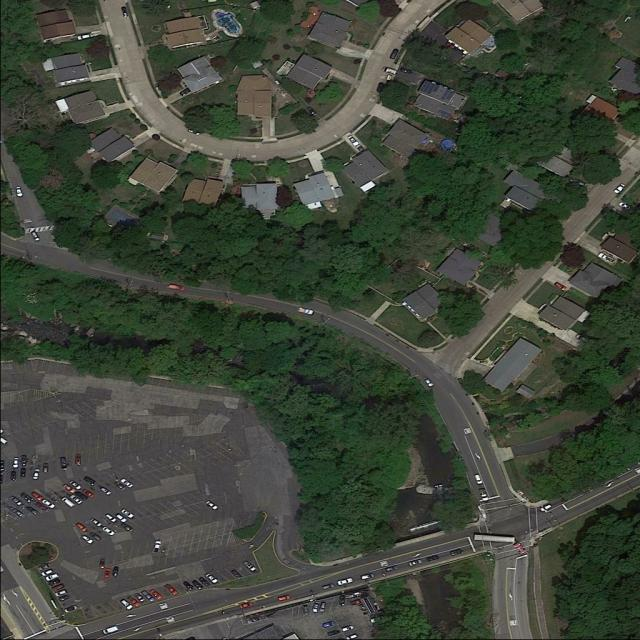large-vehicle: (472, 528, 529, 554)
small-vehicle: (598, 252, 615, 264), (612, 182, 626, 196), (61, 496, 76, 509), (352, 141, 366, 154), (141, 590, 156, 602), (41, 498, 56, 510), (83, 474, 98, 486), (74, 489, 89, 501), (102, 626, 119, 636), (120, 522, 134, 534), (205, 572, 219, 584), (150, 589, 164, 601), (382, 66, 398, 76), (165, 584, 178, 596), (35, 501, 48, 513), (70, 494, 83, 506), (128, 596, 141, 608), (121, 599, 134, 611), (575, 333, 589, 344), (102, 526, 116, 537), (62, 483, 76, 494), (120, 478, 134, 489), (337, 578, 354, 587), (192, 579, 204, 591), (369, 615, 385, 624), (306, 106, 318, 118), (168, 284, 186, 292), (298, 307, 314, 316), (89, 531, 102, 542), (244, 561, 257, 572), (231, 569, 244, 580), (199, 577, 212, 588), (121, 508, 134, 519), (206, 500, 219, 511), (21, 492, 34, 503), (69, 479, 82, 490), (478, 489, 489, 502), (46, 572, 60, 582), (51, 582, 65, 592), (64, 604, 78, 614), (76, 522, 88, 533), (82, 534, 94, 545), (116, 513, 128, 524), (182, 581, 194, 592), (423, 376, 434, 388), (11, 508, 24, 518), (26, 506, 39, 516), (14, 186, 24, 199), (618, 201, 631, 211), (554, 282, 567, 292), (153, 540, 162, 554), (239, 602, 253, 611), (361, 572, 375, 581), (389, 48, 400, 59), (90, 518, 102, 528), (10, 496, 22, 506), (31, 491, 43, 501), (114, 481, 126, 491), (179, 87, 191, 97), (38, 562, 51, 571), (409, 559, 422, 568), (342, 624, 355, 633), (327, 629, 341, 637), (77, 33, 91, 41), (322, 621, 336, 629), (135, 592, 146, 602), (31, 231, 41, 242), (41, 569, 53, 578), (49, 578, 61, 587), (55, 589, 67, 598), (32, 469, 41, 481), (100, 487, 112, 496), (400, 66, 412, 75), (451, 548, 463, 557), (278, 594, 291, 602), (106, 514, 117, 523), (84, 489, 95, 498), (312, 602, 321, 613), (474, 474, 483, 485), (59, 594, 71, 602), (121, 6, 129, 18), (302, 605, 310, 617), (338, 595, 346, 607), (540, 504, 552, 512), (21, 454, 28, 467), (322, 584, 335, 591), (426, 555, 439, 562), (347, 135, 357, 144), (60, 457, 68, 468), (112, 566, 120, 577), (386, 565, 398, 572), (319, 602, 327, 612), (350, 599, 361, 606), (76, 453, 82, 465), (446, 42, 455, 50), (99, 559, 106, 569), (104, 569, 111, 579), (13, 458, 19, 469), (43, 464, 49, 474), (21, 469, 26, 479), (11, 472, 16, 481)
